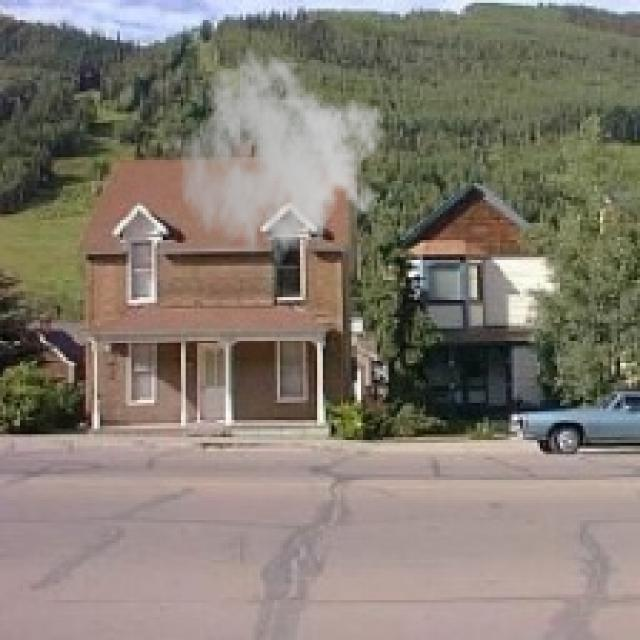smoke: (177, 46, 386, 280)
